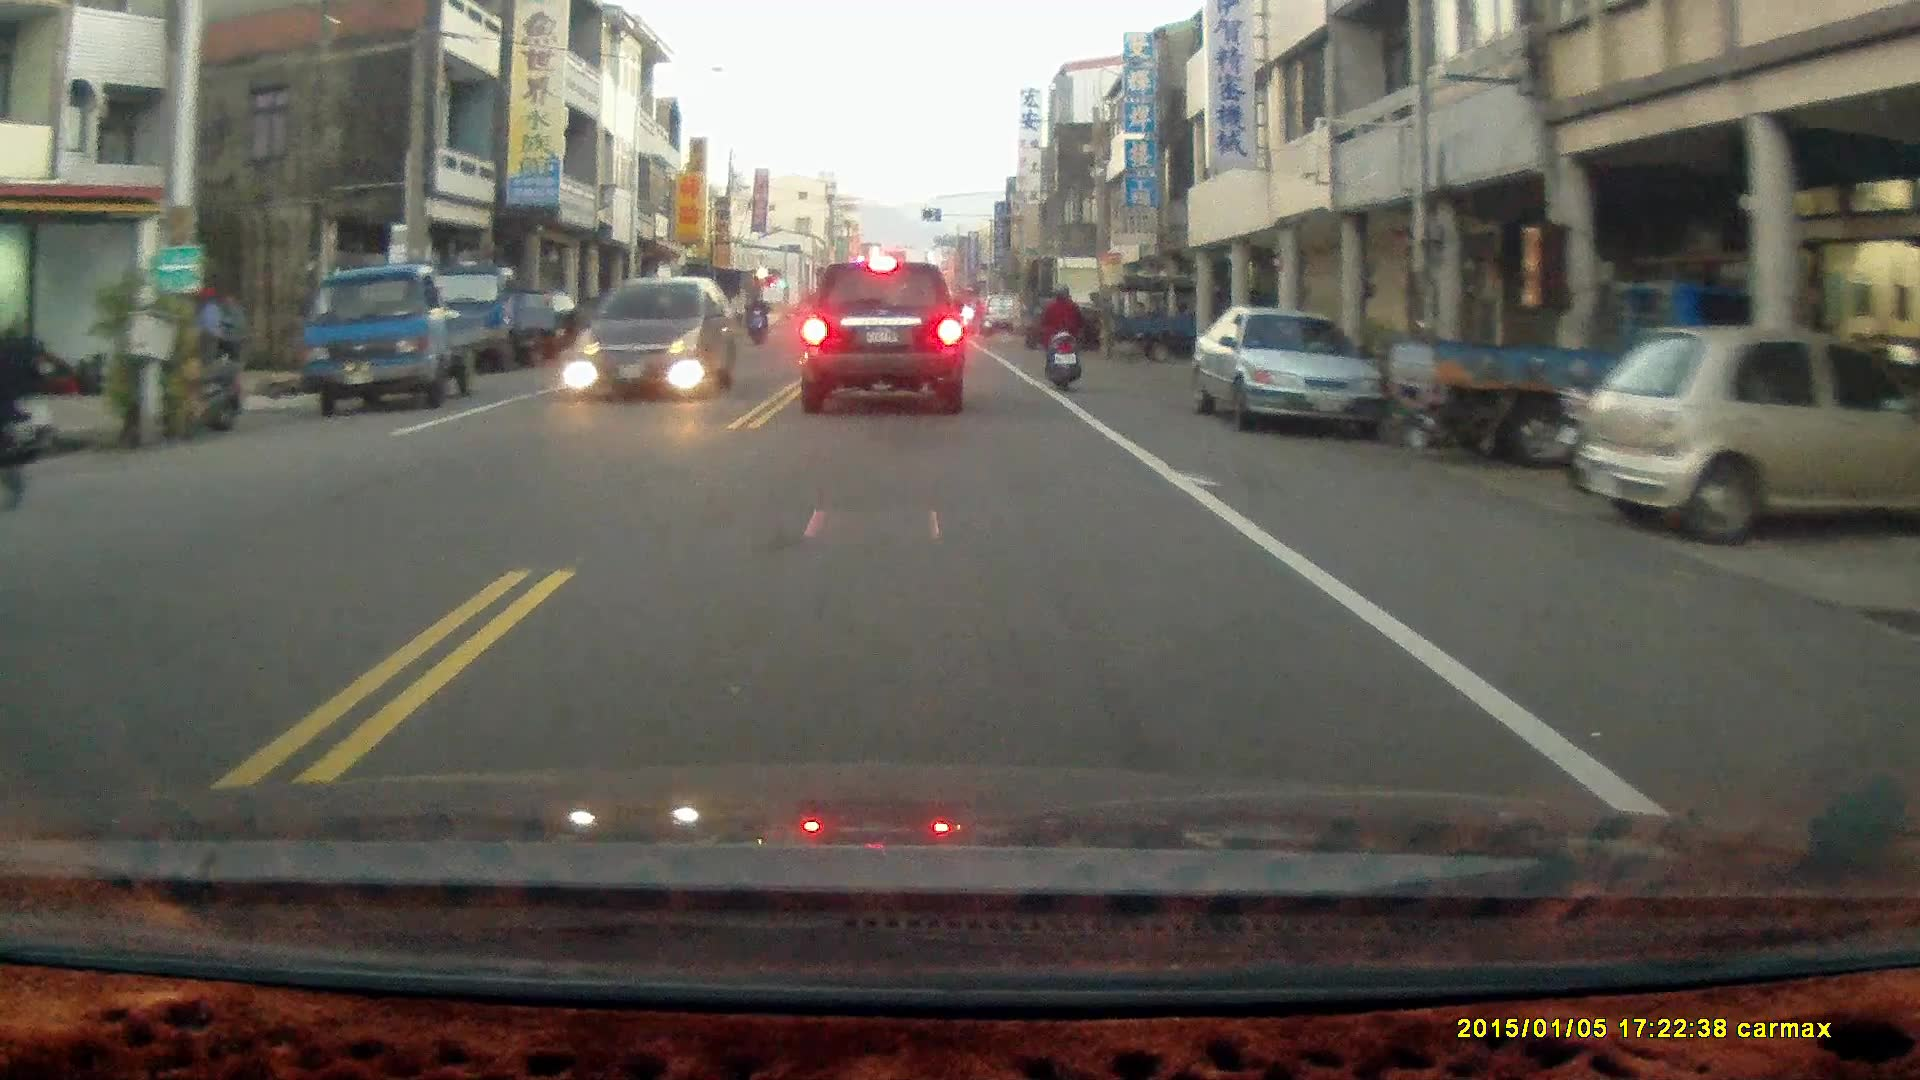pedestrian: (0, 314, 31, 514), (193, 285, 221, 387), (219, 290, 248, 383)
rider: (1038, 281, 1083, 392), (743, 294, 770, 345), (963, 296, 995, 337)
vehicle: (1574, 322, 1920, 550), (1412, 275, 1774, 468), (306, 265, 494, 420), (795, 257, 968, 420), (1193, 309, 1388, 436), (576, 279, 736, 405), (417, 261, 569, 377), (1113, 273, 1267, 360)
